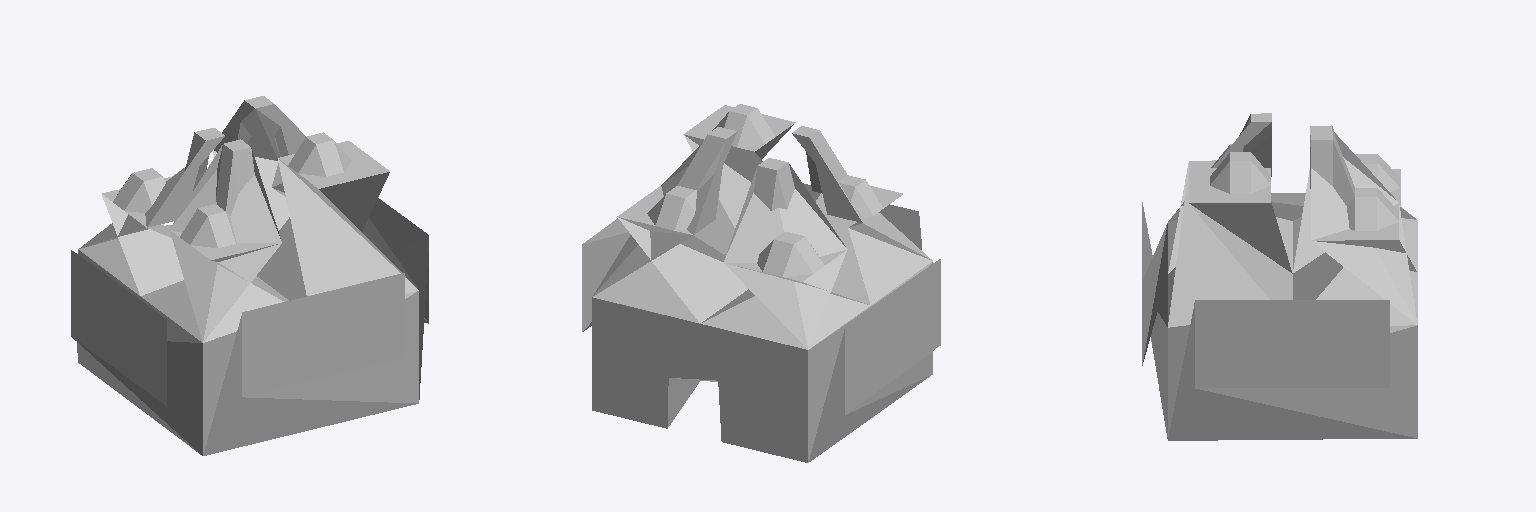
The model's file is screenolith.obj.
3 renders of one model, left to right at view 1: azimuth 30°, elevation 25°; view 2: azimuth 150°, elevation 25°; view 3: azimuth 270°, elevation 25°, orthographic.
Bounding box in the file's own units: 9.69 × 9.38 × 8.81.